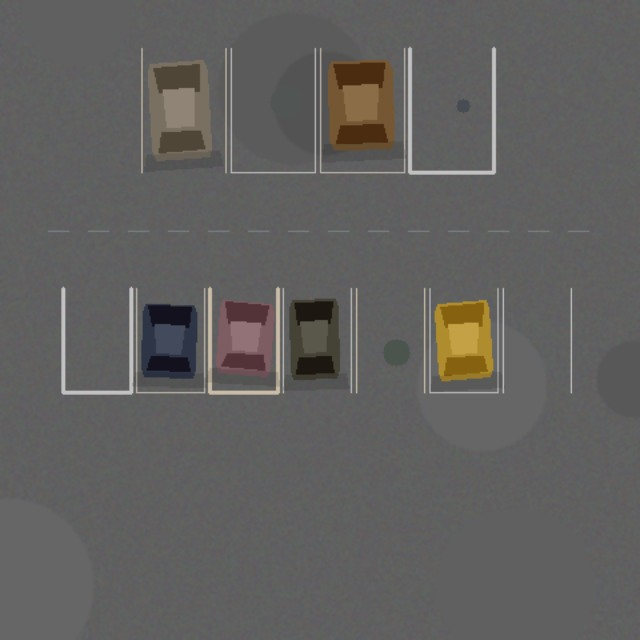space-empty: (231, 48, 315, 172), (409, 48, 493, 172), (63, 288, 131, 392), (356, 288, 424, 392), (503, 288, 571, 392)
space-occupied: (141, 48, 225, 172), (320, 48, 404, 172), (136, 288, 204, 392), (209, 288, 277, 392), (283, 288, 351, 392), (429, 288, 497, 392)
